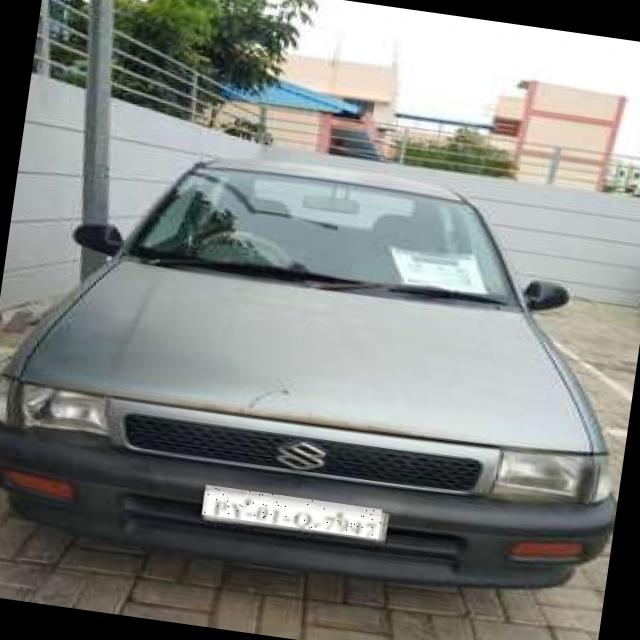Plate: (203, 486, 383, 541)
